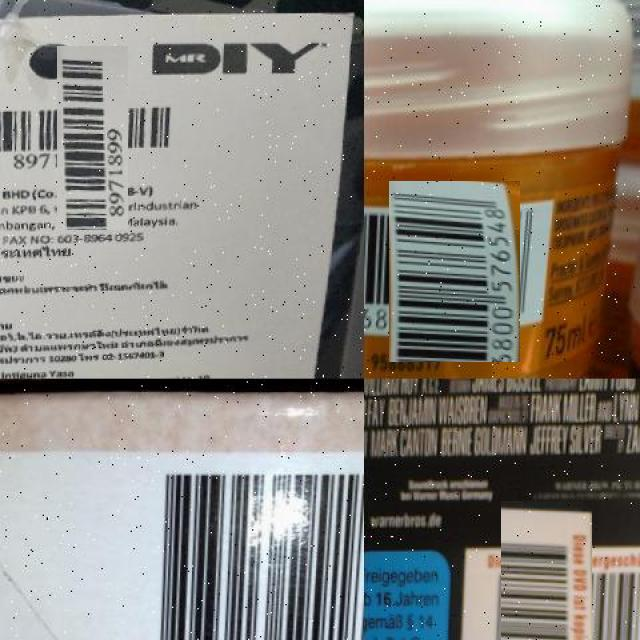Barcode: (124, 461, 364, 640), (376, 193, 533, 350), (28, 74, 156, 202), (477, 526, 615, 640)
